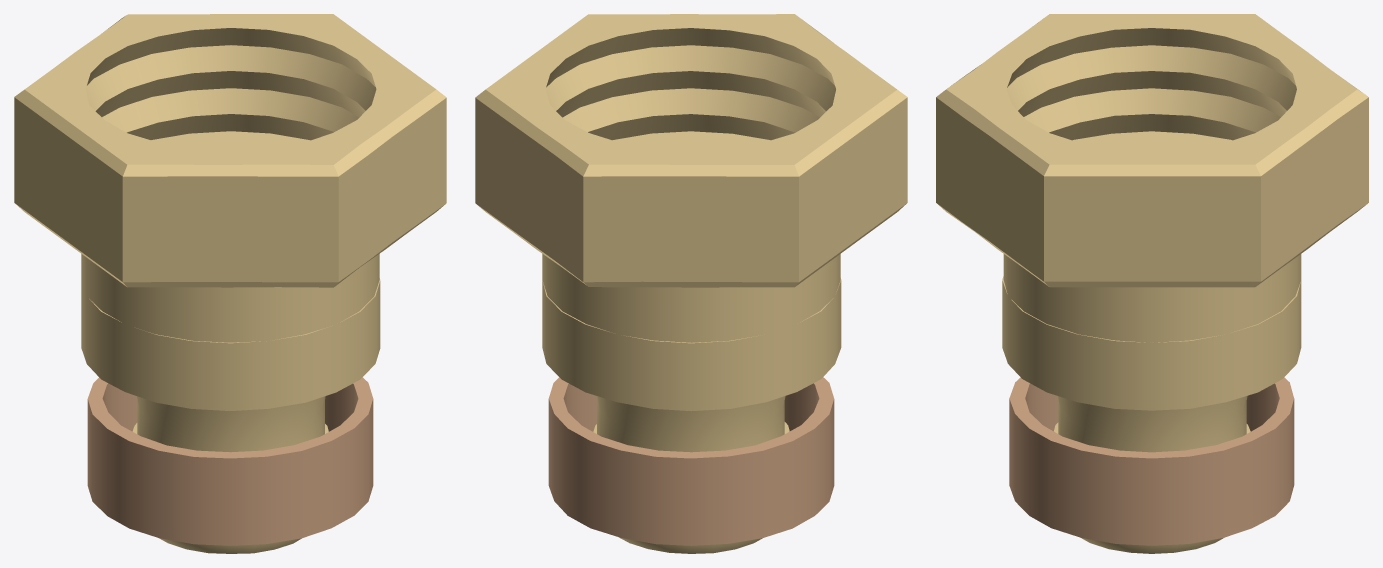
The model's file is pipes_supply__water_heater__e094f50d__r4y.glb.
The picture shows the model from 3 angles, left to right: view 1: azimuth 30°, elevation 25°; view 2: azimuth 150°, elevation 25°; view 3: azimuth 270°, elevation 25°; orthographic projection.
Parts seen in each view (by area): view 1: fit_adapter_pipe_supply_cold_riser_tmv_lo_flo_s__pex.001; view 2: fit_adapter_pipe_supply_cold_riser_tmv_lo_flo_s__pex.001; view 3: fit_adapter_pipe_supply_cold_riser_tmv_lo_flo_s__pex.001.
Boxes of the visible parts, x1,y1,x2,y2 form: fit_adapter_pipe_supply_cold_riser_tmv_lo_flo_s__pex.001: (14,14,446,553); fit_adapter_pipe_supply_cold_riser_tmv_lo_flo_s__pex.001: (475,14,907,553); fit_adapter_pipe_supply_cold_riser_tmv_lo_flo_s__pex.001: (936,14,1368,553).
Size of the model in its own units: 0.0317 by 0.04 by 0.0367.
